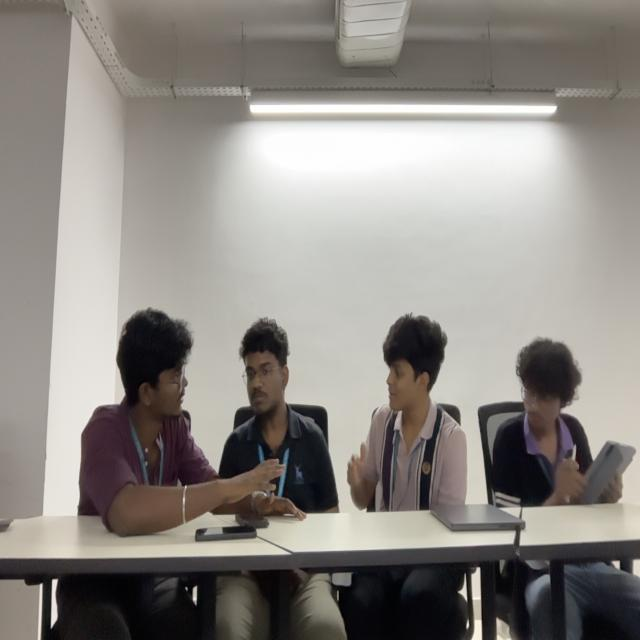Isolated: (491, 336, 637, 504)
socializing: (77, 312, 467, 535)
